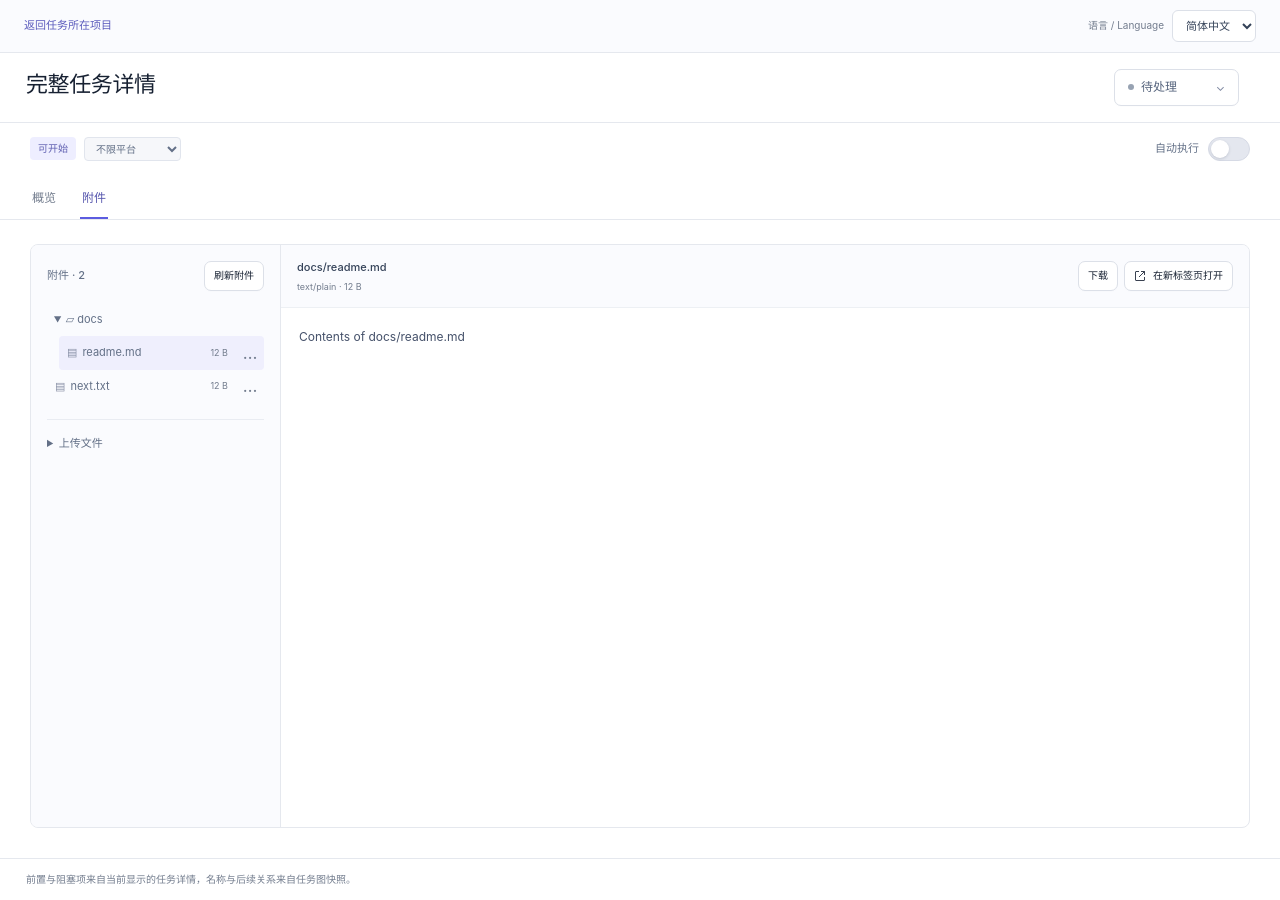
Test: full-detail attachment surface › retains the selected file address after deletion and shows the confirmed missing state
This screenshot has width=1280, height=900.
Check: the text "Contents of docs/readme.md" is shown, box [299,329,465,344]
Click the button named "更多操作：docs/readme.md": (250, 353) [236,339,264,367]
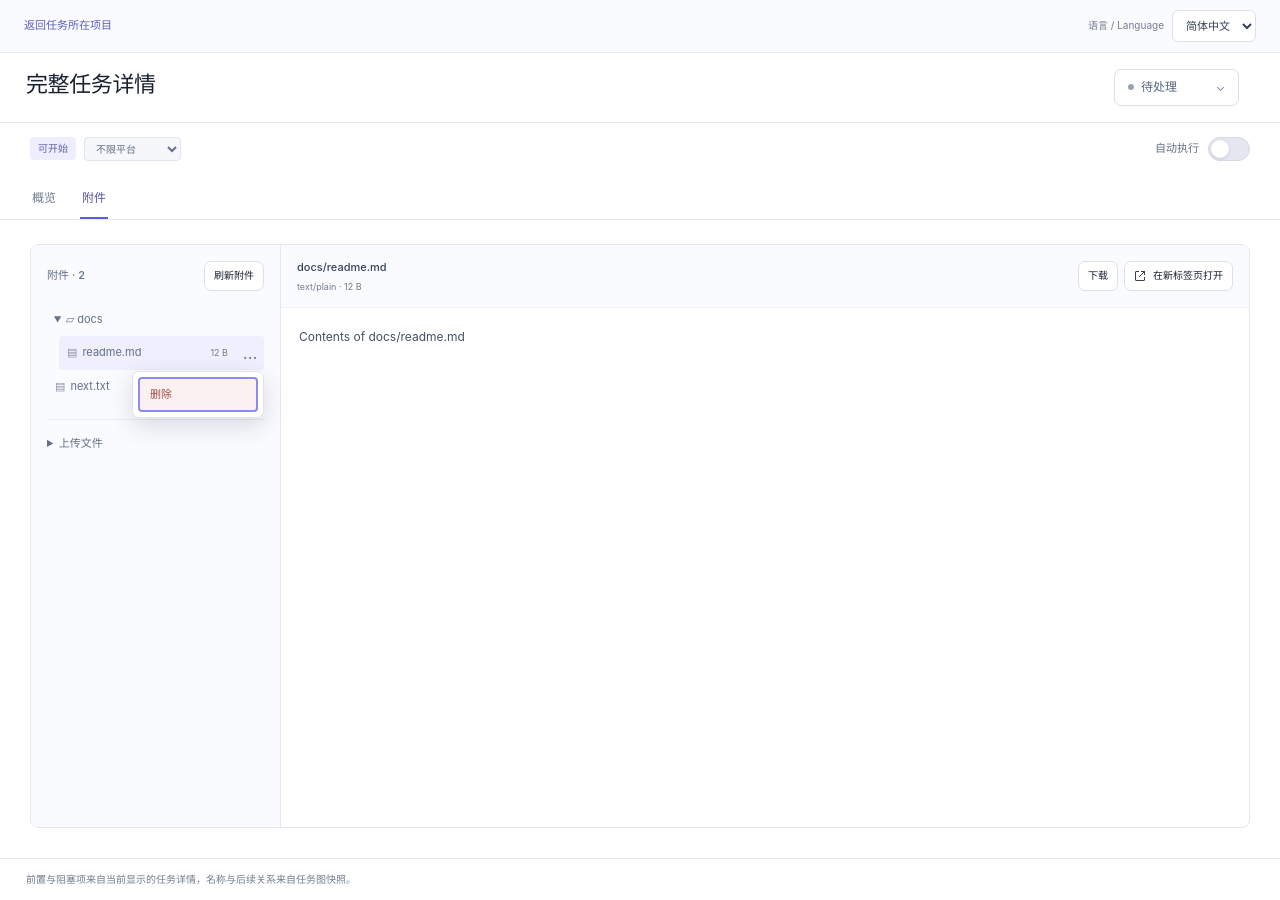
Click the menu item "删除": (198, 394) [138,377,258,412]
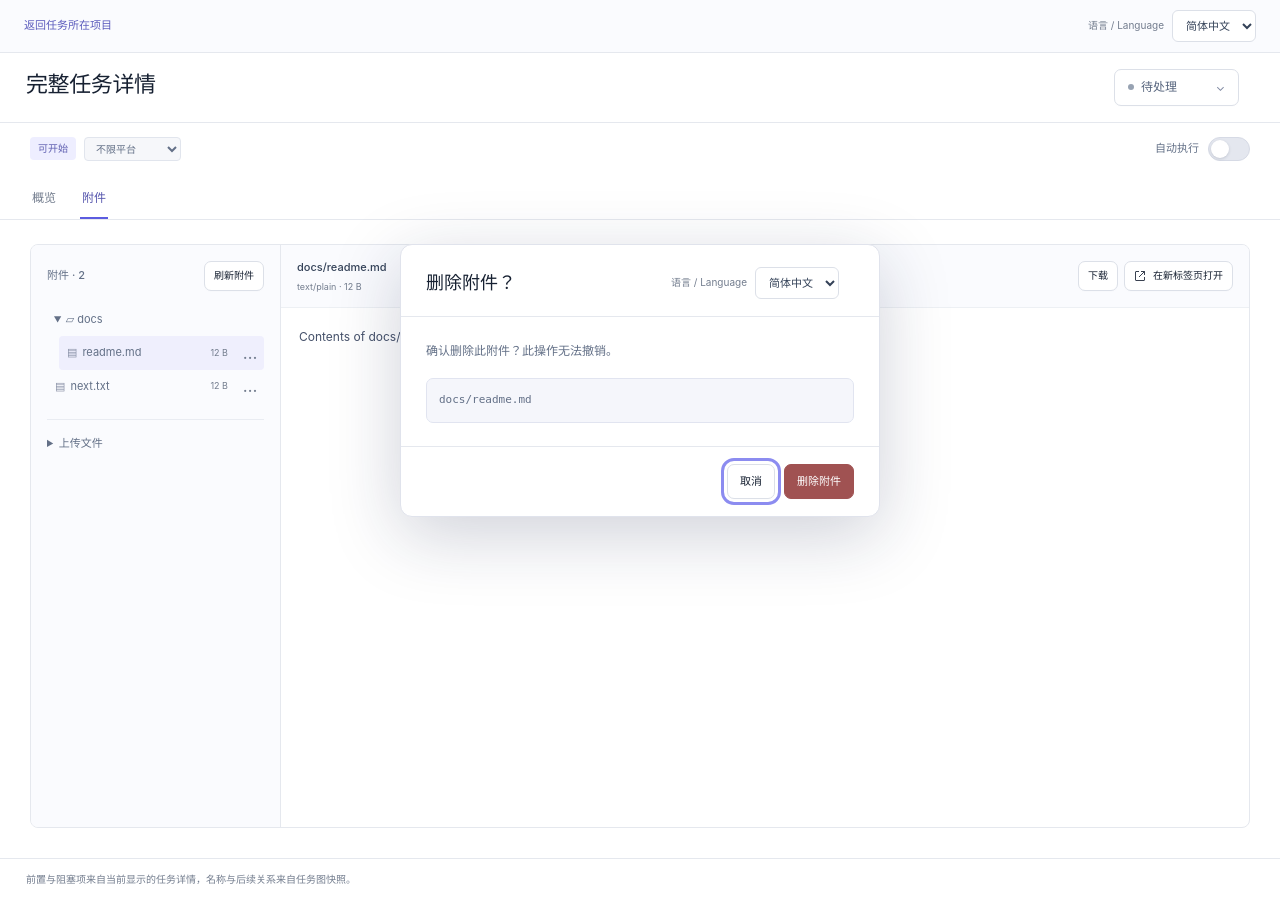
Click the button "删除附件": (819, 481) [784,464,854,499]
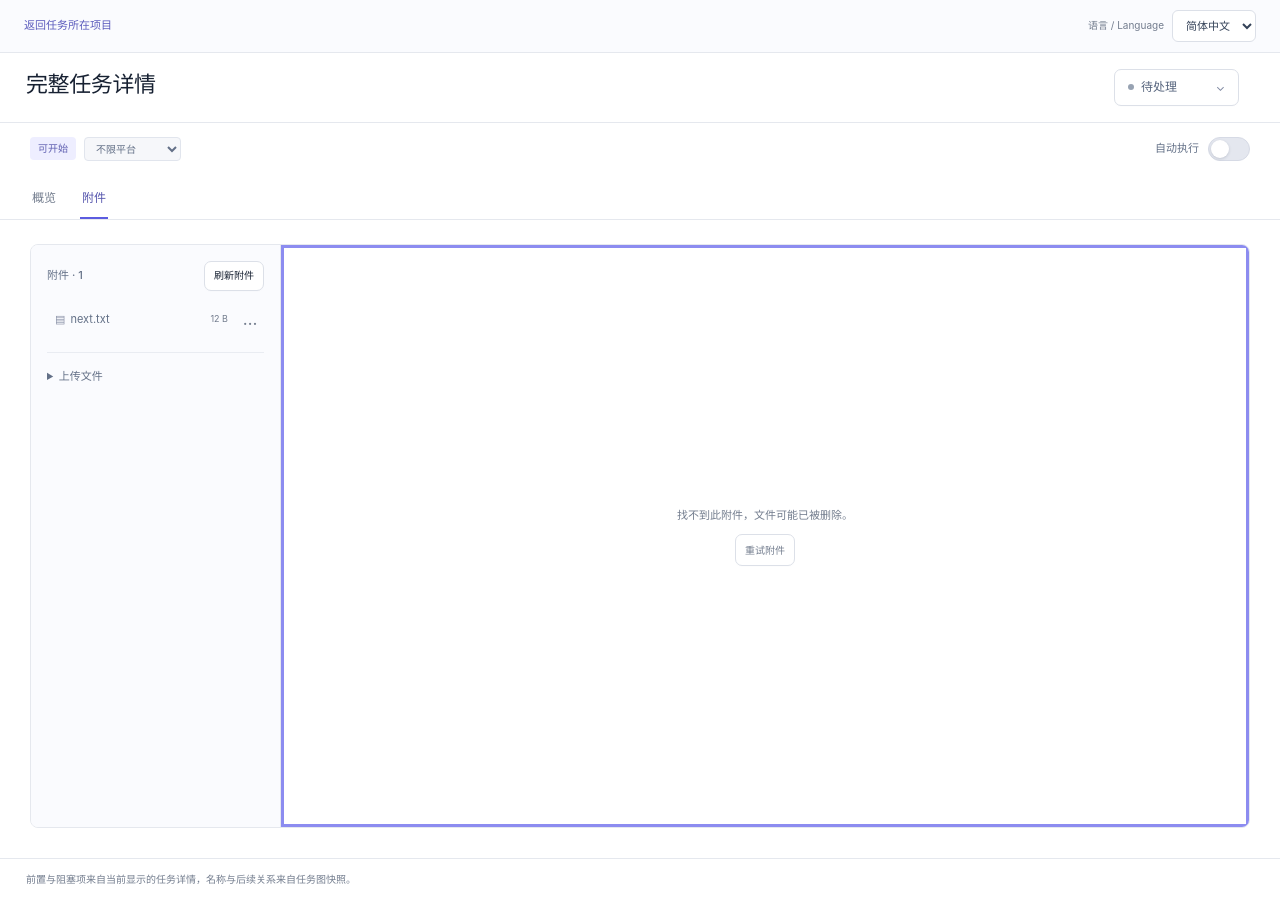
Check: the message shows "找不到此附件", box [677,508,853,522]
Check: the text "Contents of docs/readme.md" is gone
Click the button "▤ next.txt 12 B": (142, 319) [47,303,236,336]
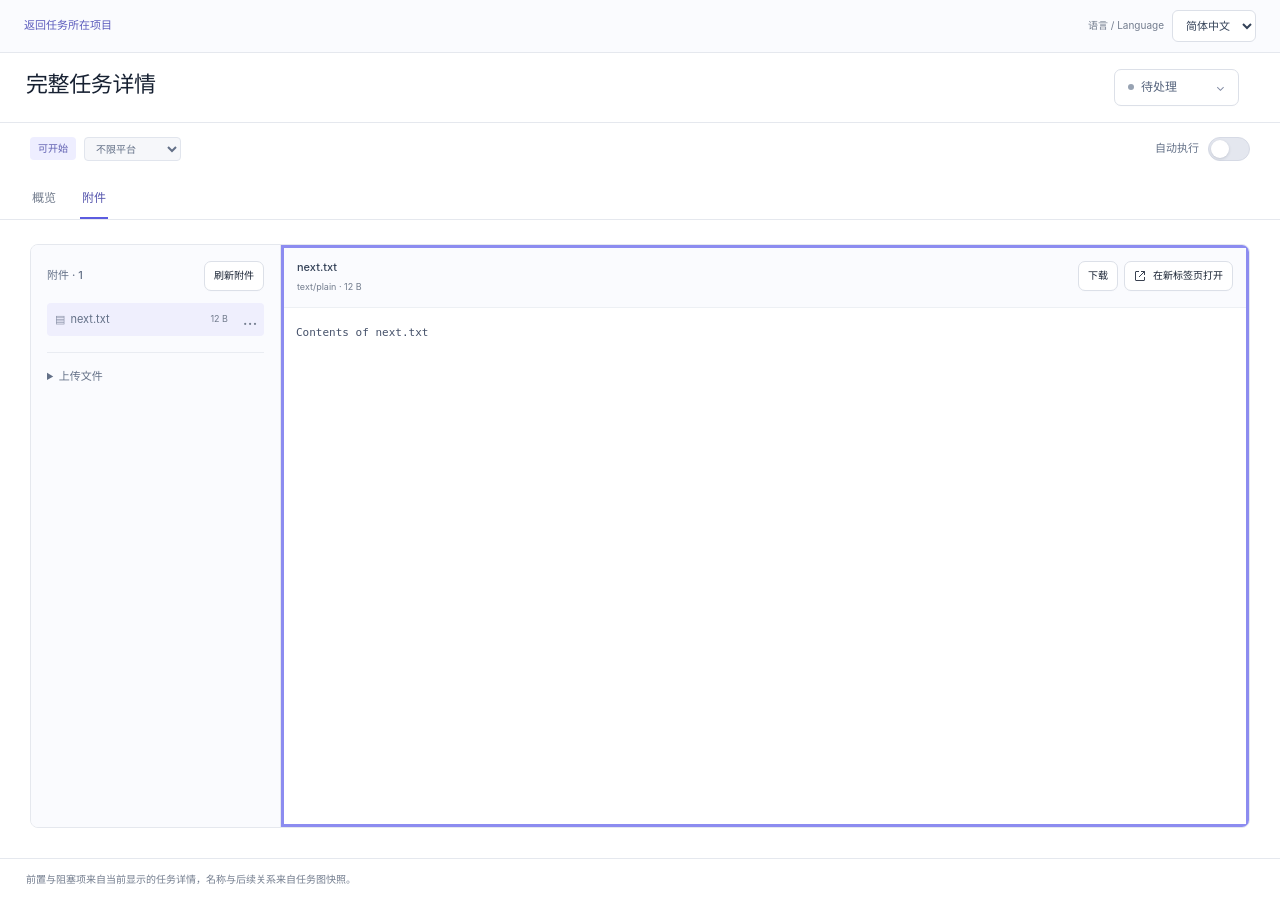
Check: the text "Contents of next.txt" is shown, box [296,326,428,339]
